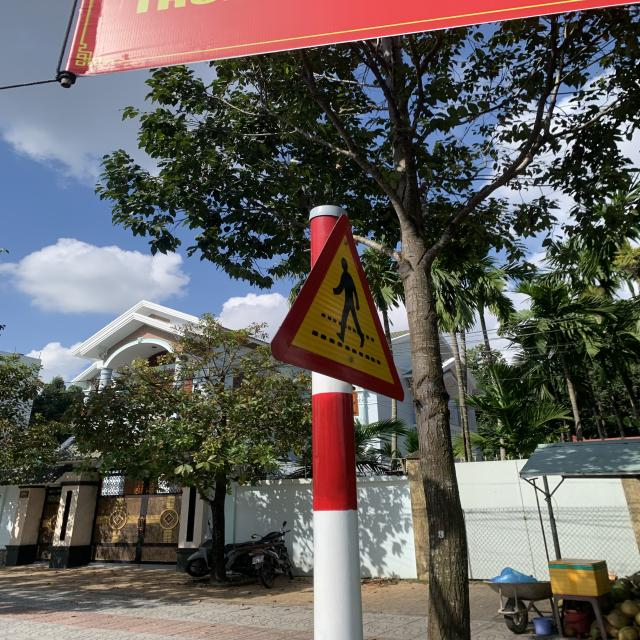Duong_Nguoi_Di_Bo_Sang_Ngang: (268, 212, 407, 402)
